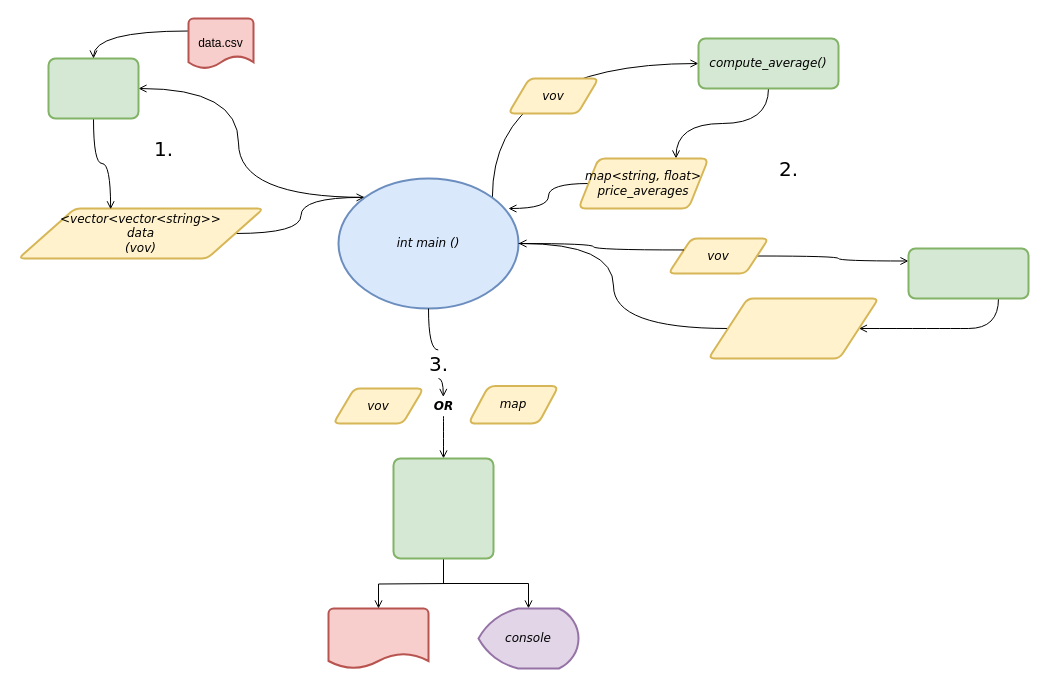
The diagram is 1046 pixels wide and 686 high, and some of its shapes have lost their labels. Each missing label, with the centre of its shape:
"data.txt" goes at pixel 378 638.
"map<string, vector<string>> by_year" goes at pixel 793 328.
"output functions" goes at pixel 443 508.
"read_data()" goes at pixel 93 88.
"skus_by_year()" goes at pixel 968 273.
